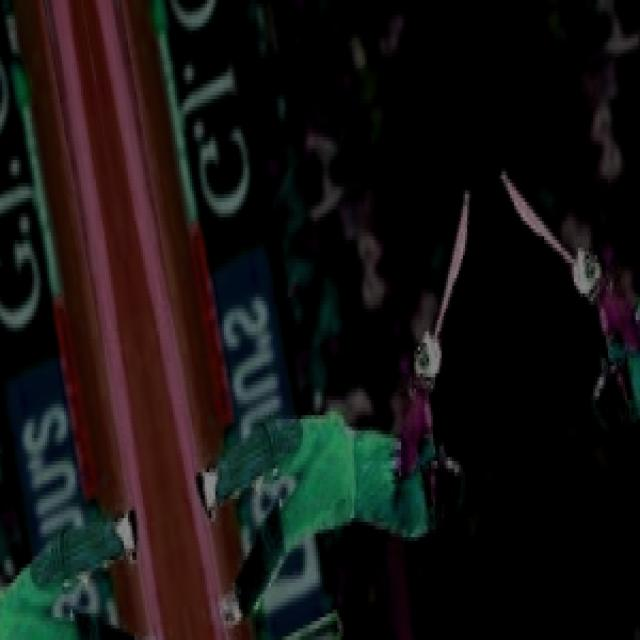toe: (458, 174, 476, 222)
